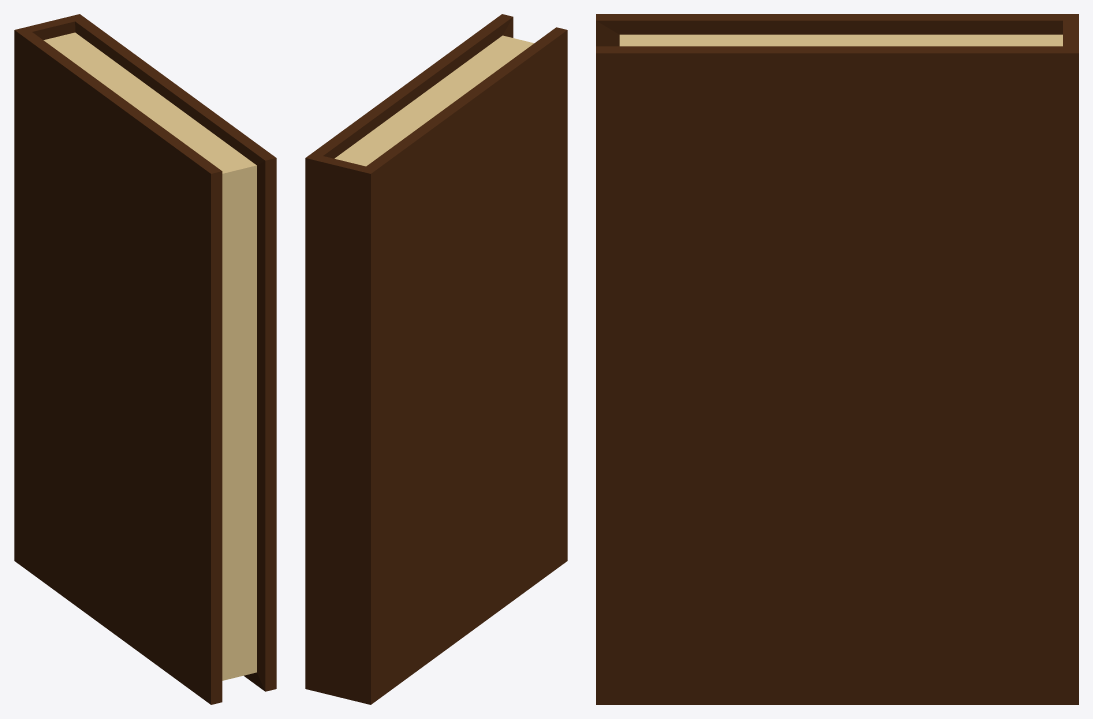
Rendered from Book1.fbx.
3 views of the same model, side by side, from view 1: azimuth 30°, elevation 25°; view 2: azimuth 150°, elevation 25°; view 3: azimuth 270°, elevation 25° (orthographic). The views are drawn at different scales.
Visible parts, largest first — view 1: Book1; view 2: Book1; view 3: Book1.
Part boxes in pixels (bbox=[...]): Book1: bbox=[14, 14, 276, 704]; Book1: bbox=[305, 14, 567, 704]; Book1: bbox=[596, 14, 1078, 704].
Size of the model in its own units: 8.64 by 67.02 by 45.
